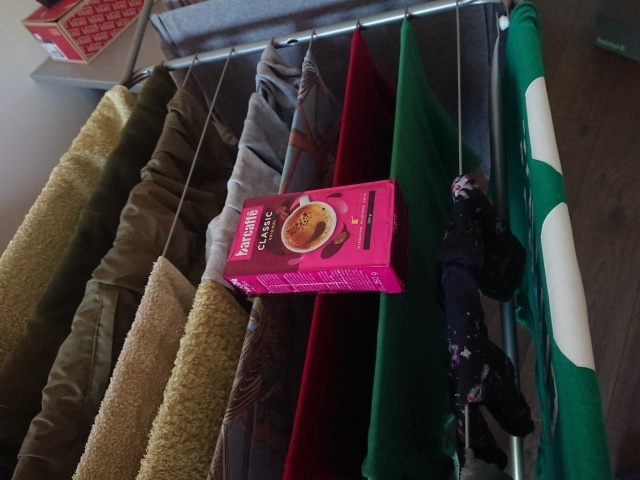Barcaffe Classic Original 225g: (220, 176, 413, 300)
